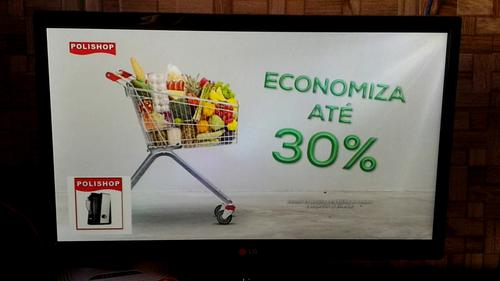Polishop #1: (68, 175, 132, 233)
